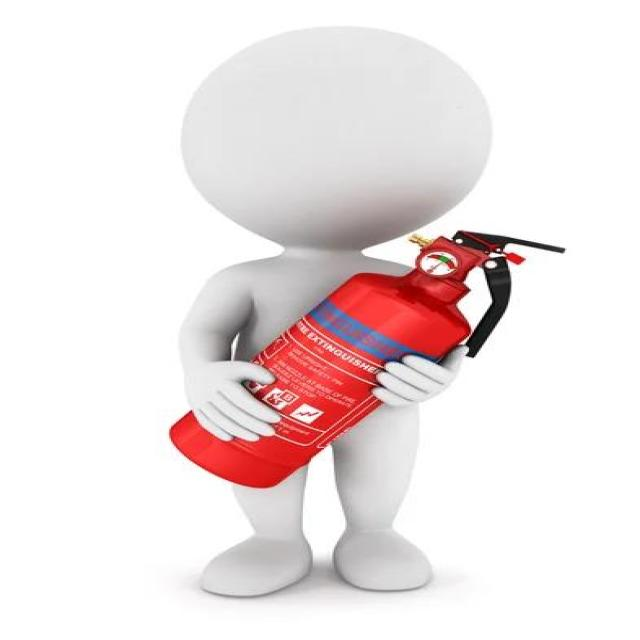fire_extinguisher: (154, 218, 580, 490)
